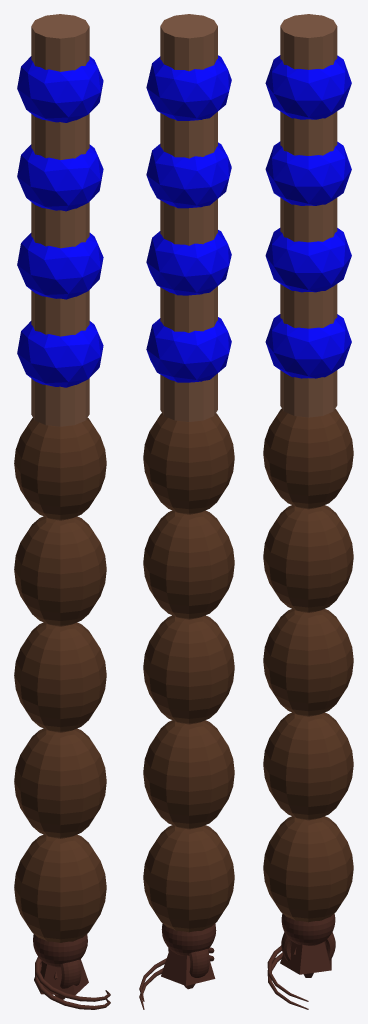
Rendered from Wand 239.glb.
3 renders of one model, left to right at view 1: azimuth 30°, elevation 25°; view 2: azimuth 210°, elevation 25°; view 3: azimuth 270°, elevation 25°, orthographic. The views are drawn at different scales.
Visible parts, largest first — view 1: GeneratedWand, Pommel_4, Pommel_9, Pommel_2, Pommel_10; view 2: GeneratedWand, Pommel_4, Pommel_9, Pommel_2; view 3: GeneratedWand, Pommel_9, Pommel_4, Pommel_2, Pommel_10.
Part boxes in pixels (x1=…): GeneratedWand: x1=14, y1=14, x2=110, y2=1001; Pommel_4: x1=33, y1=934, x2=87, y2=967; Pommel_9: x1=34, y1=959, x2=88, y2=995; Pommel_2: x1=60, y1=959, x2=81, y2=988; Pommel_10: x1=35, y1=963, x2=110, y2=1009; GeneratedWand: x1=139, y1=14, x2=234, y2=1001; Pommel_4: x1=161, y1=923, x2=216, y2=955; Pommel_9: x1=161, y1=949, x2=215, y2=985; Pommel_2: x1=168, y1=948, x2=209, y2=977; GeneratedWand: x1=263, y1=14, x2=353, y2=1001; Pommel_9: x1=280, y1=941, x2=331, y2=974; Pommel_4: x1=281, y1=913, x2=335, y2=945; Pommel_2: x1=281, y1=932, x2=335, y2=961; Pommel_10: x1=267, y1=952, x2=308, y2=1009.
Size of the model in its own units: 0.0481 by 0.5262 by 0.0449.
